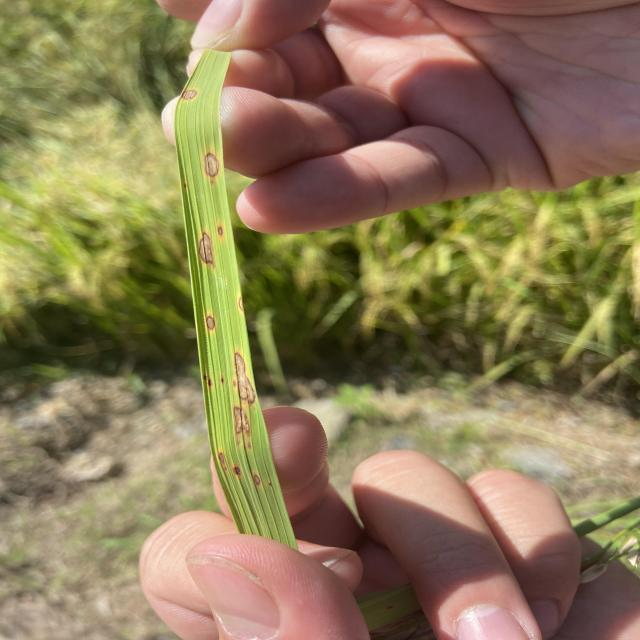Dao on: (235, 353, 256, 403), (199, 231, 216, 265), (232, 406, 251, 435), (205, 152, 220, 179), (183, 89, 197, 101), (206, 315, 214, 330), (253, 473, 261, 488), (232, 464, 240, 475), (217, 225, 223, 237), (220, 452, 226, 462), (247, 440, 252, 449), (208, 379, 211, 386), (233, 380, 236, 387), (203, 375, 206, 381), (221, 378, 224, 383), (225, 465, 227, 471), (184, 182, 185, 189)
